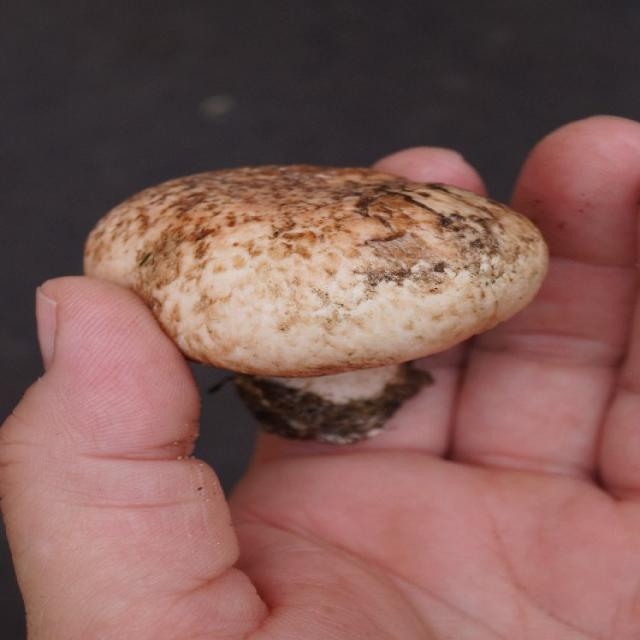Agaricus bisporus: (83, 174, 556, 454)
